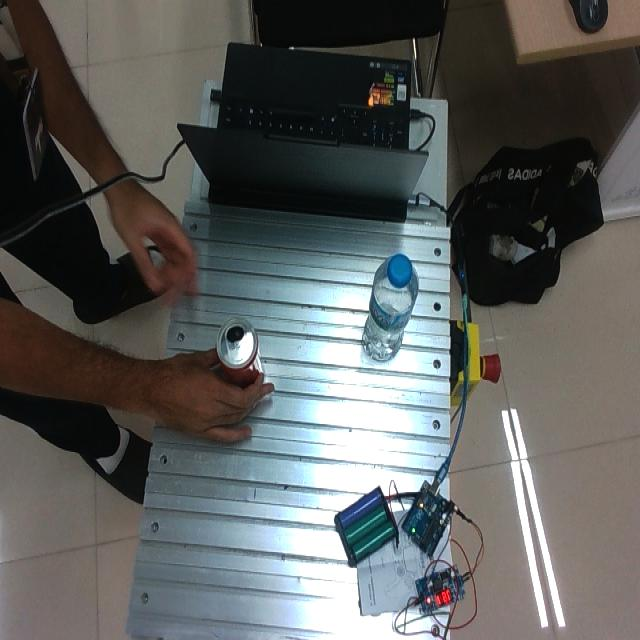coca: (216, 316, 263, 387)
lavie: (362, 252, 419, 361)
